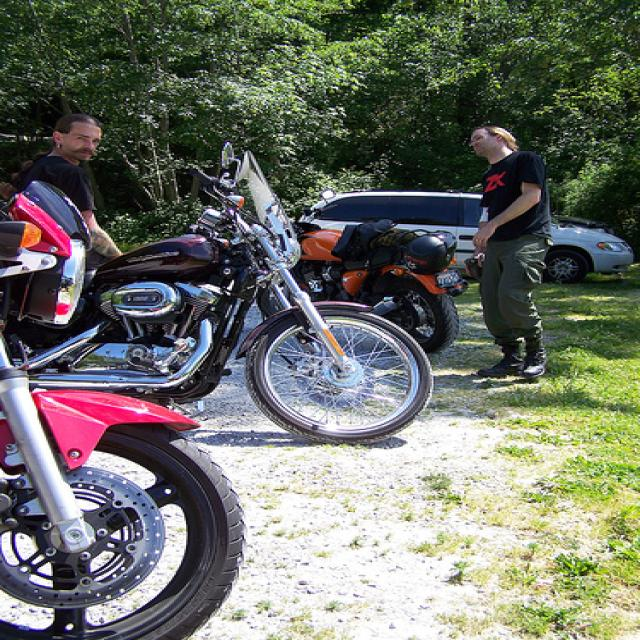light_vehicle: (290, 190, 633, 282)
